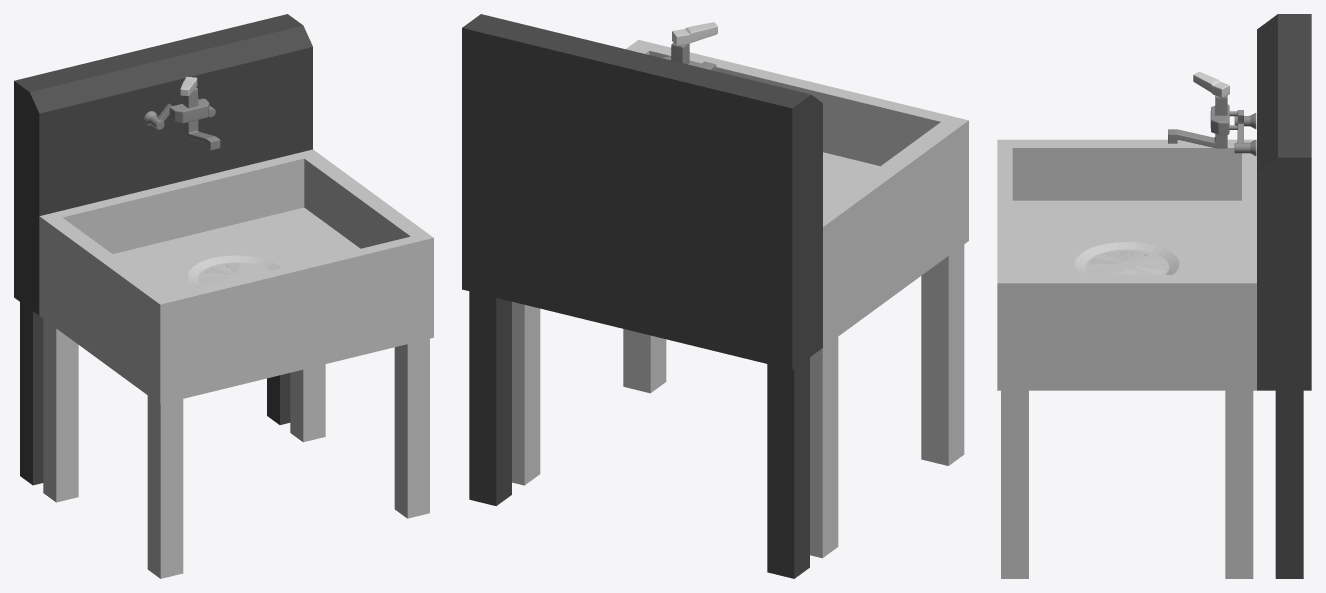
The model's file is Fire_sinku.fbx.
3 renders of one model, left to right at view 1: azimuth 30°, elevation 25°; view 2: azimuth 150°, elevation 25°; view 3: azimuth 270°, elevation 25°, orthographic. The views are drawn at different scales.
Visible parts, largest first — view 1: sinku.001, sinku, jakuzi2, sinku2.001; view 2: sinku, sinku.001, jakuzi2; view 3: sinku.001, sinku, jakuzi2, sinku2.001.
Part boxes in pixels (x1=…): sinku.001: x1=39, y1=149, x2=433, y2=578; sinku: x1=14, y1=14, x2=312, y2=485; jakuzi2: x1=143, y1=76, x2=220, y2=150; sinku2.001: x1=199, y1=263, x2=268, y2=286; sinku: x1=462, y1=14, x2=822, y2=578; sinku.001: x1=512, y1=40, x2=968, y2=558; jakuzi2: x1=662, y1=22, x2=717, y2=71; sinku.001: x1=997, y1=139, x2=1256, y2=578; sinku: x1=1257, y1=14, x2=1311, y2=578; jakuzi2: x1=1168, y1=72, x2=1256, y2=156; sinku2.001: x1=1087, y1=250, x2=1166, y2=274.
Size of the model in its own units: 574 by 791 by 531.
